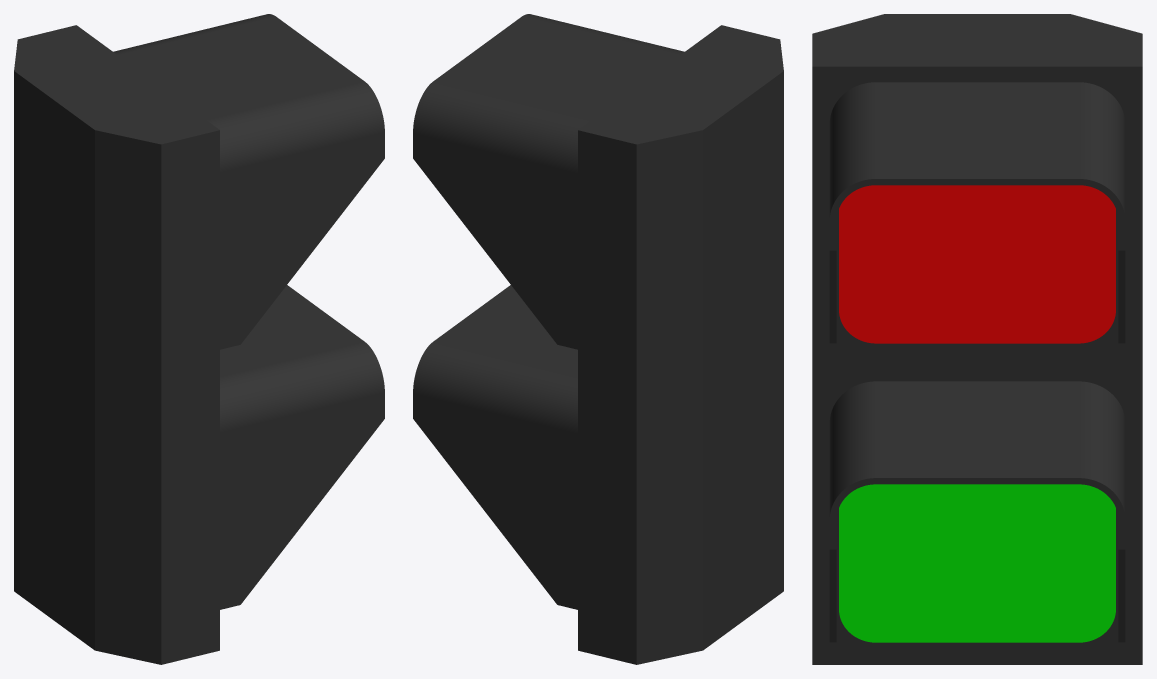
Rendered from RoadTFLight_4type.FBX.
3 views of the same model, side by side, from view 1: azimuth 30°, elevation 25°; view 2: azimuth 150°, elevation 25°; view 3: azimuth 270°, elevation 25° (orthographic). The views are drawn at different scales.
Visible parts, largest first — view 1: RoadTFLight_4type; view 2: RoadTFLight_4type; view 3: RoadTFLight_4type.
Boxes of the visible parts, box(x1,y1,x2,y2) form: RoadTFLight_4type: box(14, 14, 384, 664); RoadTFLight_4type: box(413, 14, 783, 664); RoadTFLight_4type: box(812, 14, 1142, 664).
Size of the model in its own units: 38 by 71 by 35.5.
